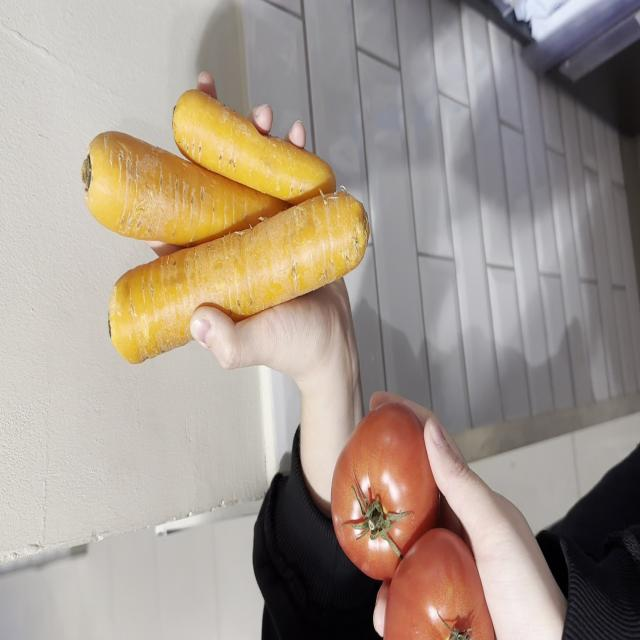carrot: (109, 192, 369, 364), (81, 132, 288, 246), (172, 90, 336, 204)
tomato: (331, 404, 439, 580), (384, 527, 495, 640)
